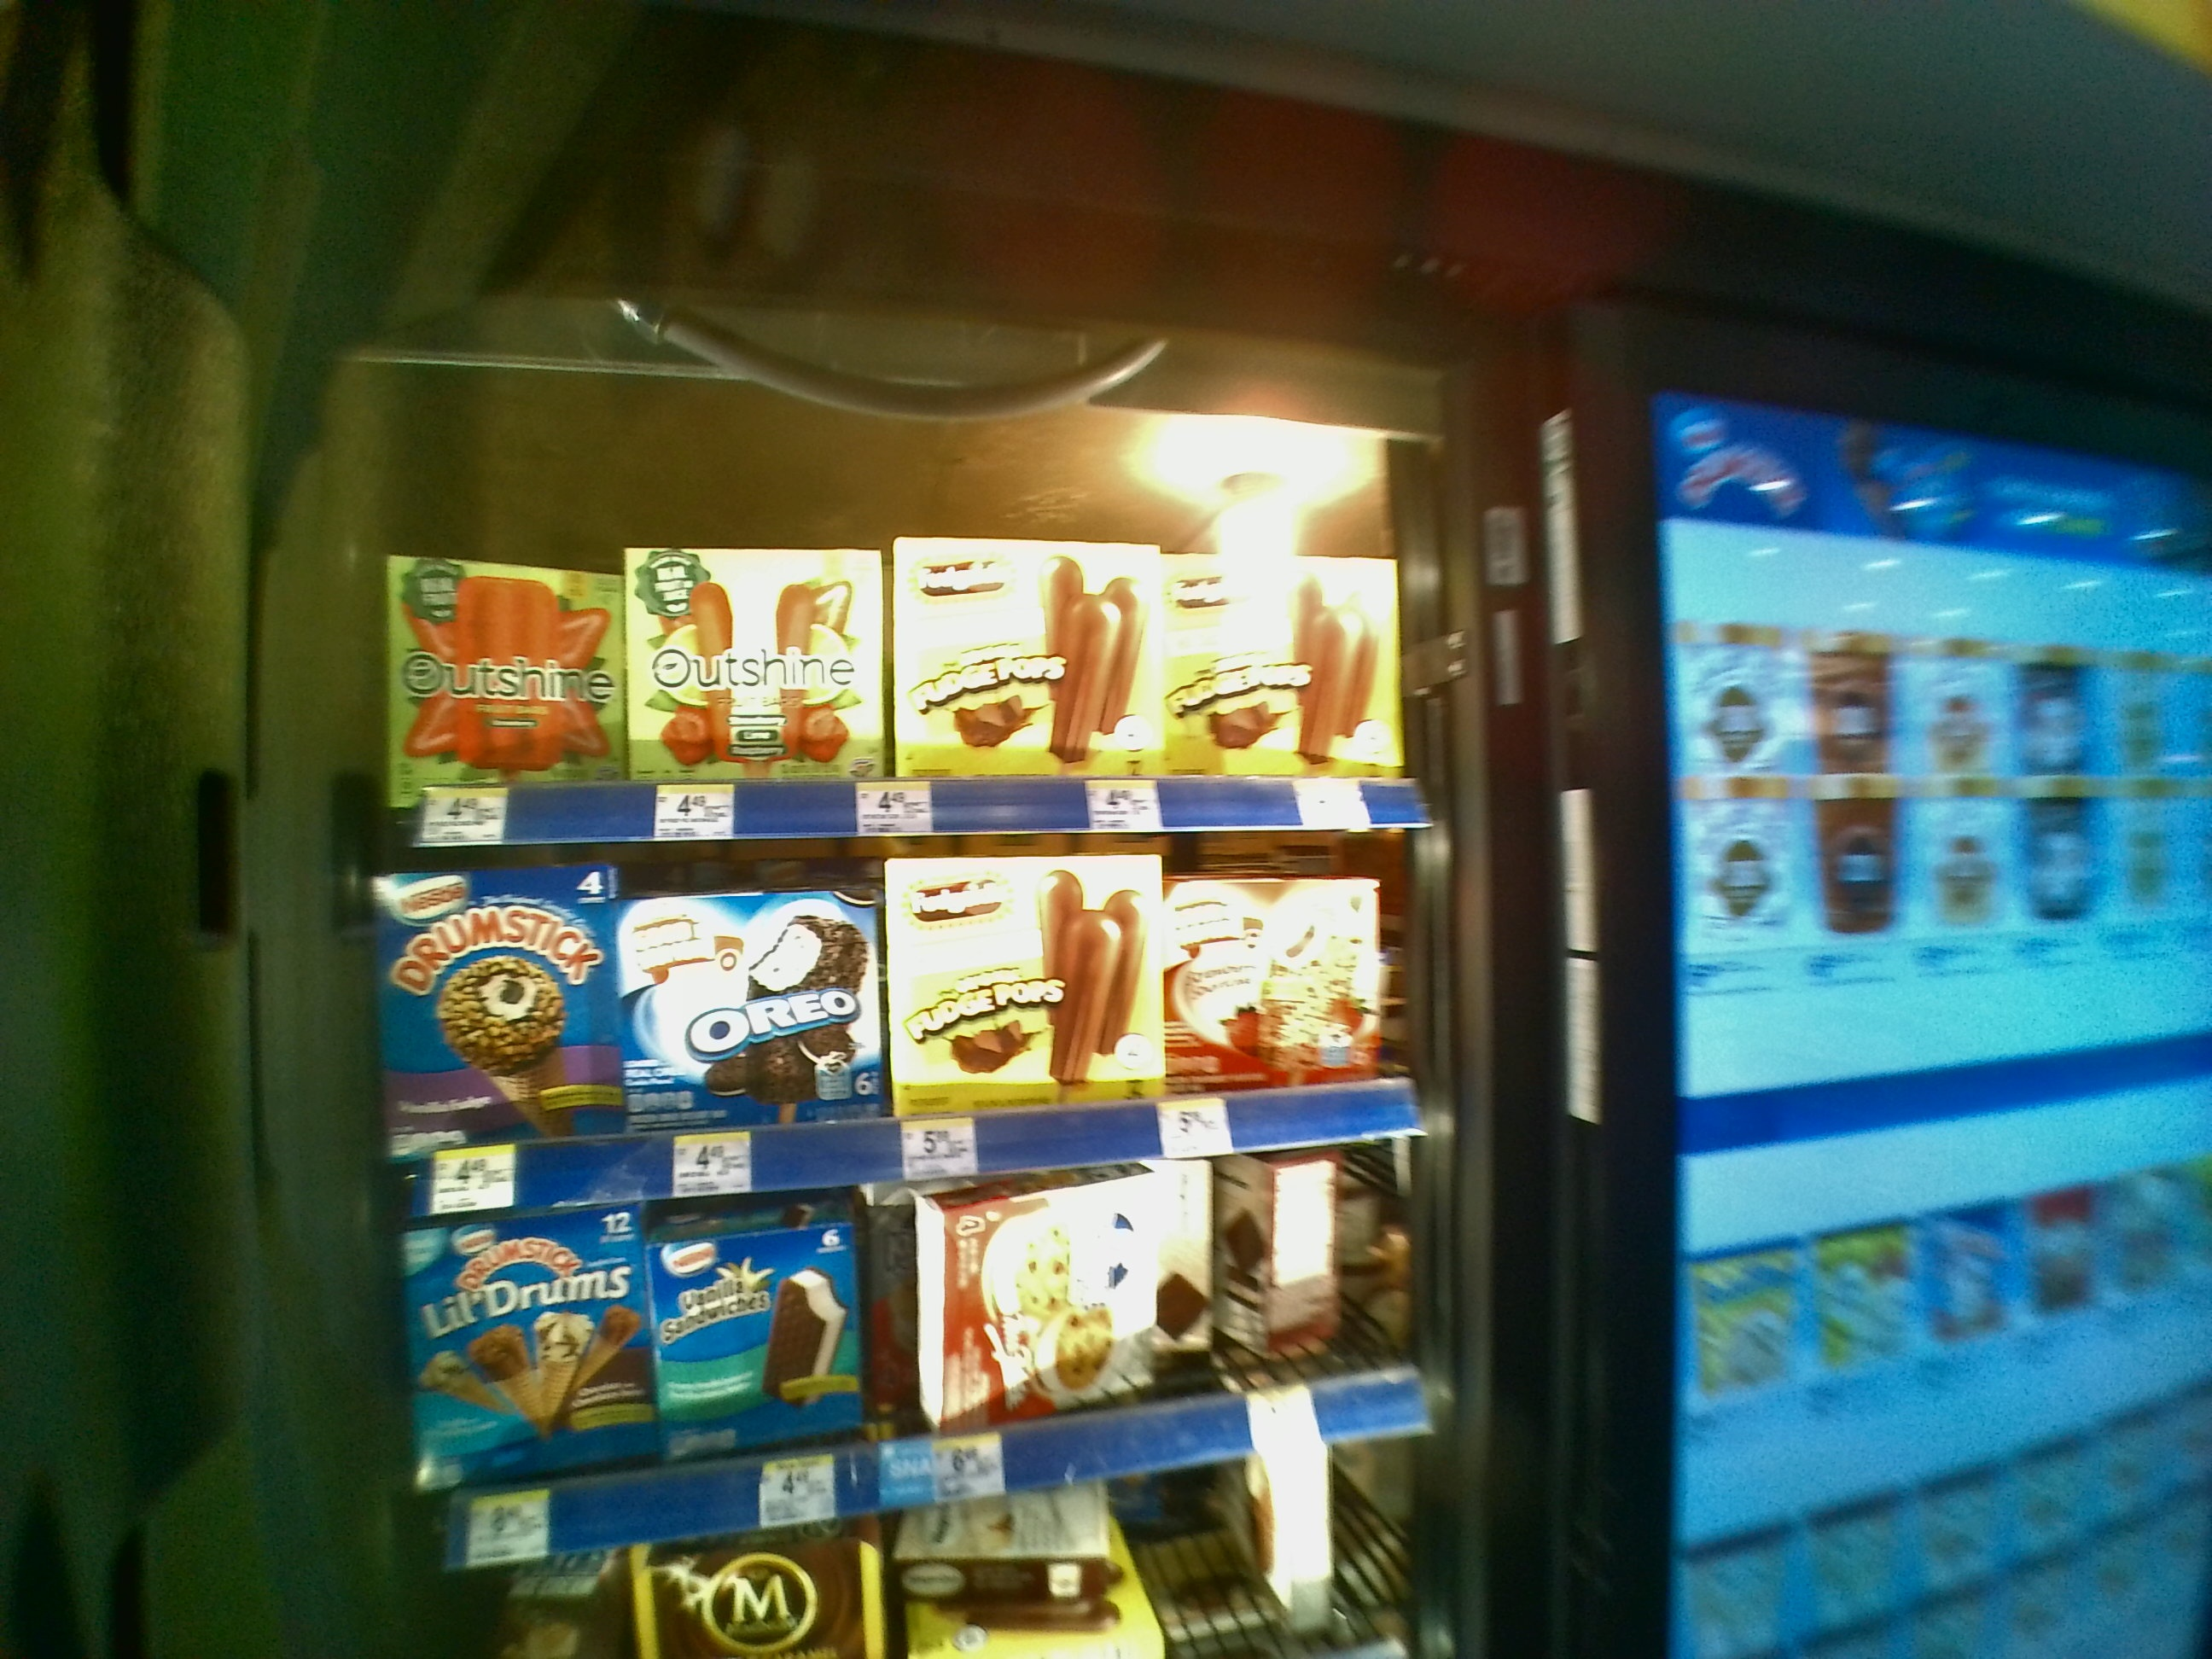shelf: (371, 465, 1413, 836), (374, 863, 1418, 1211)
